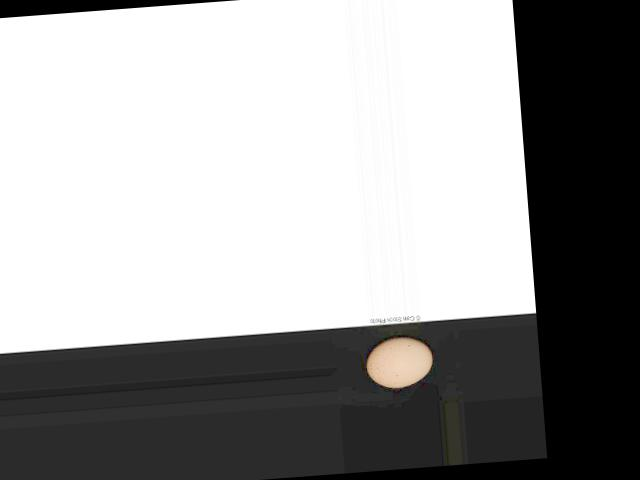egg: (364, 334, 434, 389)
